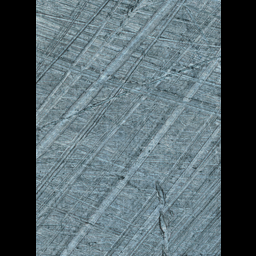d: (150, 178, 176, 255)
